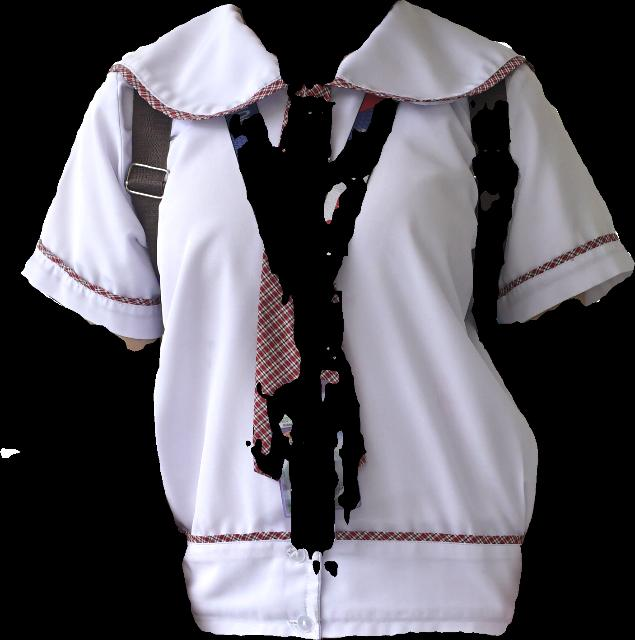pologirl: (22, 0, 634, 639)
